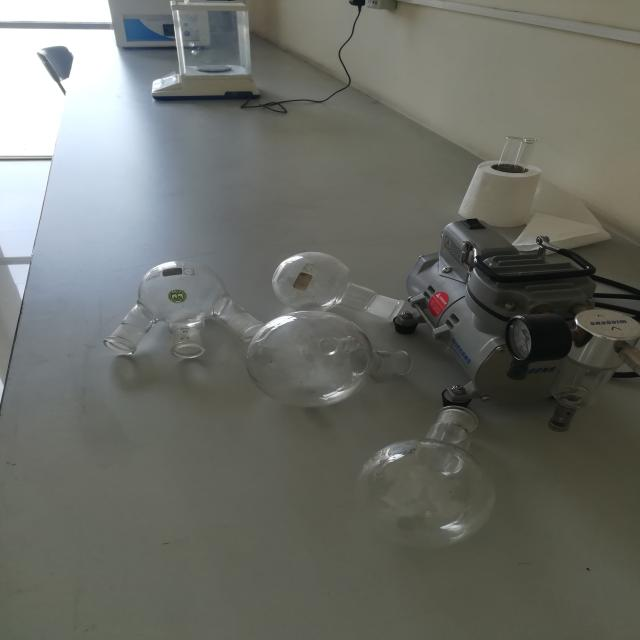Round_Bottom_Flask_Borosilicate_Glass_1_Neck: (338, 383, 537, 555), (252, 232, 426, 330)
Round_Bottom_Flask_Borosilicate_Glass_2_Neck: (231, 286, 421, 409)
Round_Bottom_Flask_Borosilicate_Glass_3_Neck: (93, 242, 270, 372)
